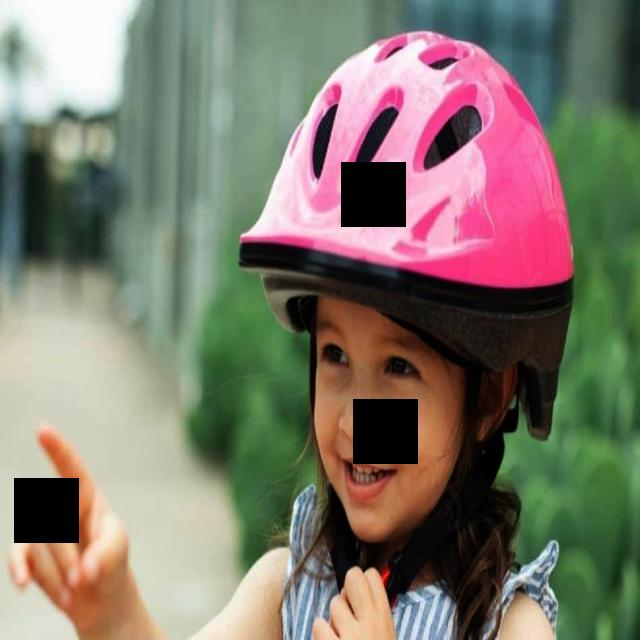Helmet: (238, 30, 577, 549)
